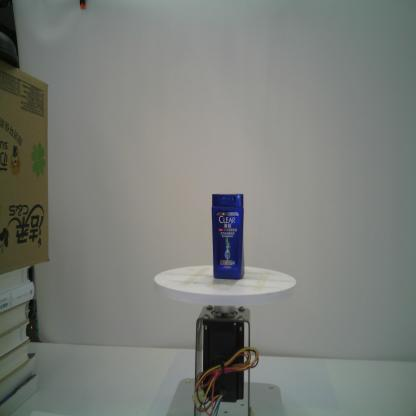Personal Hygiene: (212, 193, 245, 280)
